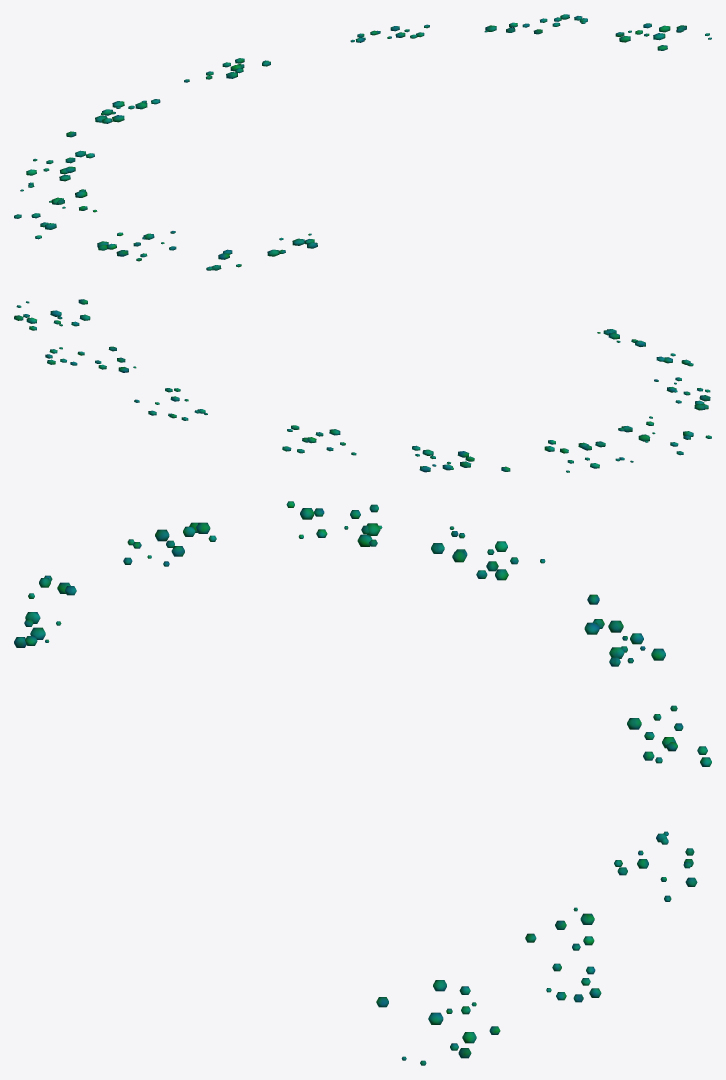
The model's file is ShorePebbles_A.fbx.
3 views of the same model, one above another, from view 1: azimuth 30°, elevation 25°; view 2: azimuth 150°, elevation 25°; view 3: azimuth 270°, elevation 25° (orthographic). The views are drawn at different scales.
Visible parts, largest first — view 1: ShorePebbles_A; view 2: ShorePebbles_A; view 3: ShorePebbles_A.
Part boxes in pixels (x1=…): ShorePebbles_A: x1=14, y1=14, x2=711, y2=270; ShorePebbles_A: x1=14, y1=299, x2=711, y2=472; ShorePebbles_A: x1=14, y1=501, x2=711, y2=1065.
Size of the model in its own units: 10.08 by 0.2301 by 5.29.
